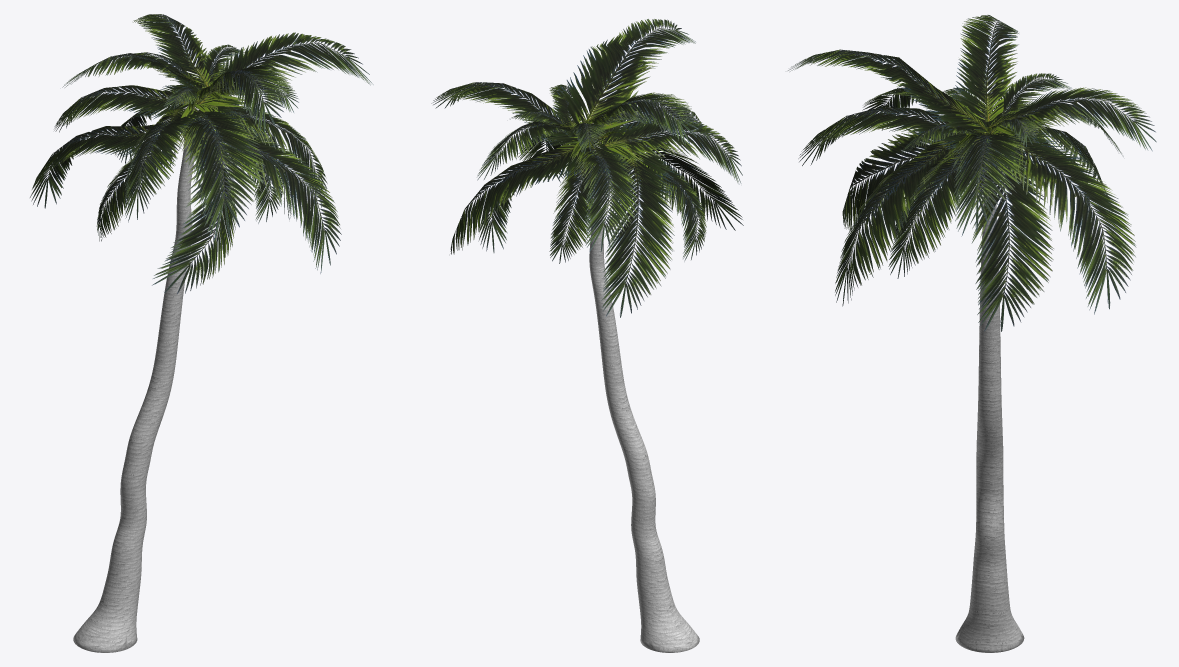
Rendered from palm_textures.obj.
The picture shows the model from 3 angles, left to right: view 1: azimuth 30°, elevation 25°; view 2: azimuth 150°, elevation 25°; view 3: azimuth 270°, elevation 25°; orthographic projection. The views are drawn at different scales.
Visible parts, largest first — view 1: Cylinder.001; view 2: Cylinder.001; view 3: Cylinder.001.
Boxes of the visible parts, box(x1,y1,x2,y2) form: Cylinder.001: box(30, 14, 373, 652); Cylinder.001: box(431, 19, 743, 652); Cylinder.001: box(788, 15, 1156, 652).
Size of the model in its own units: 2.57 by 4.5 by 2.47.
